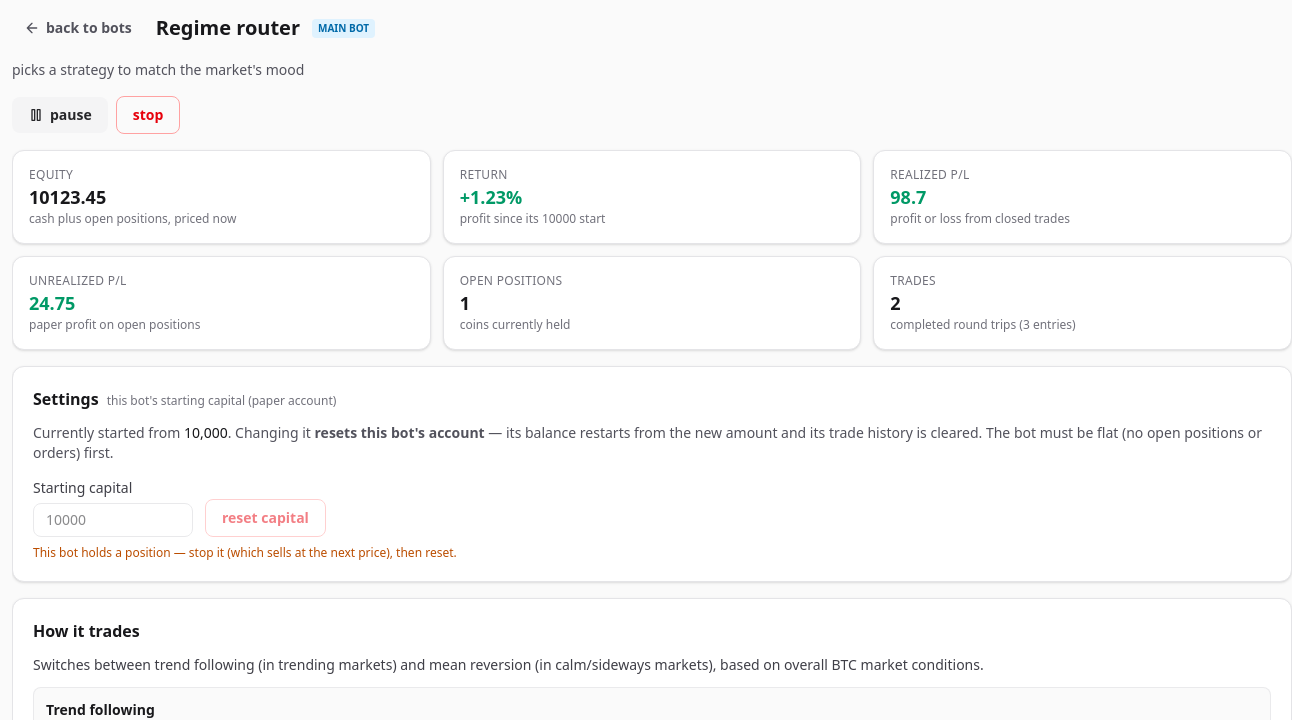
Test: BotDetailScreen › requires a confirm step before stop & flatten
Click the button "stop".
click(148, 115)  # box [116, 96, 180, 134]
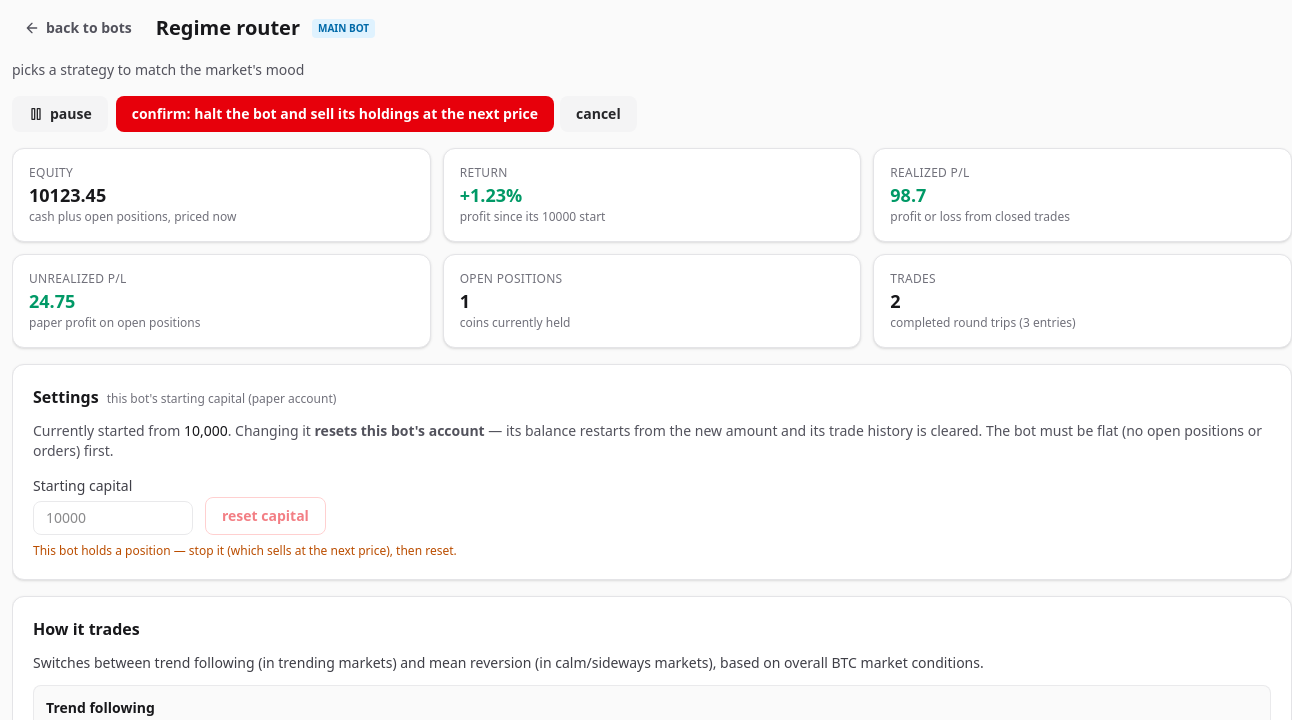
Result: the button "confirm: halt the bot and sell its holdings at the next price" is shown at [116, 96, 554, 132]
